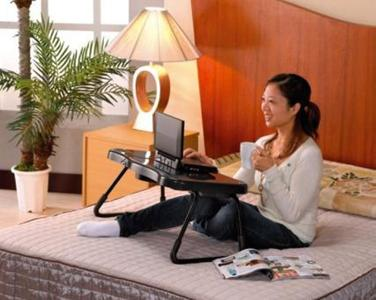person: (74, 74, 324, 251)
